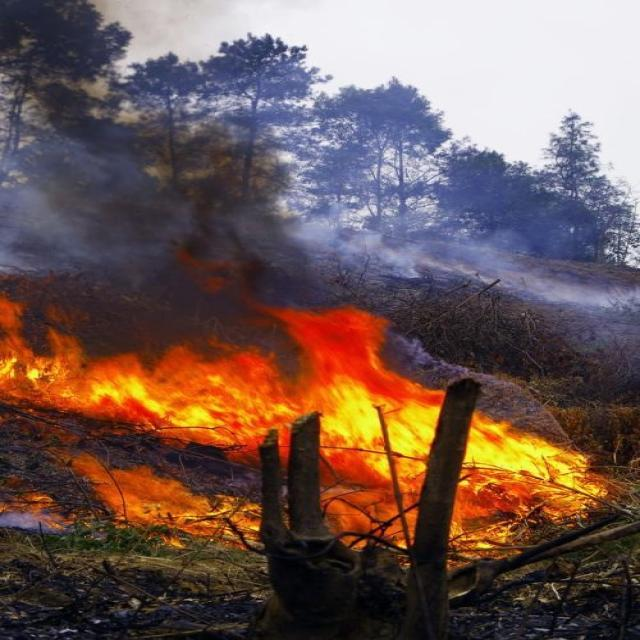Fire: (1, 292, 608, 568)
Smoke: (1, 1, 638, 358), (1, 510, 64, 534)
